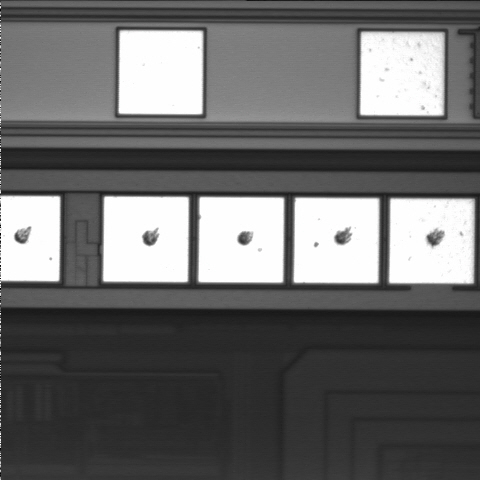pad: (198, 197, 284, 283), (103, 197, 189, 282), (294, 198, 379, 283), (389, 199, 474, 283), (119, 31, 203, 114), (360, 32, 443, 115)
